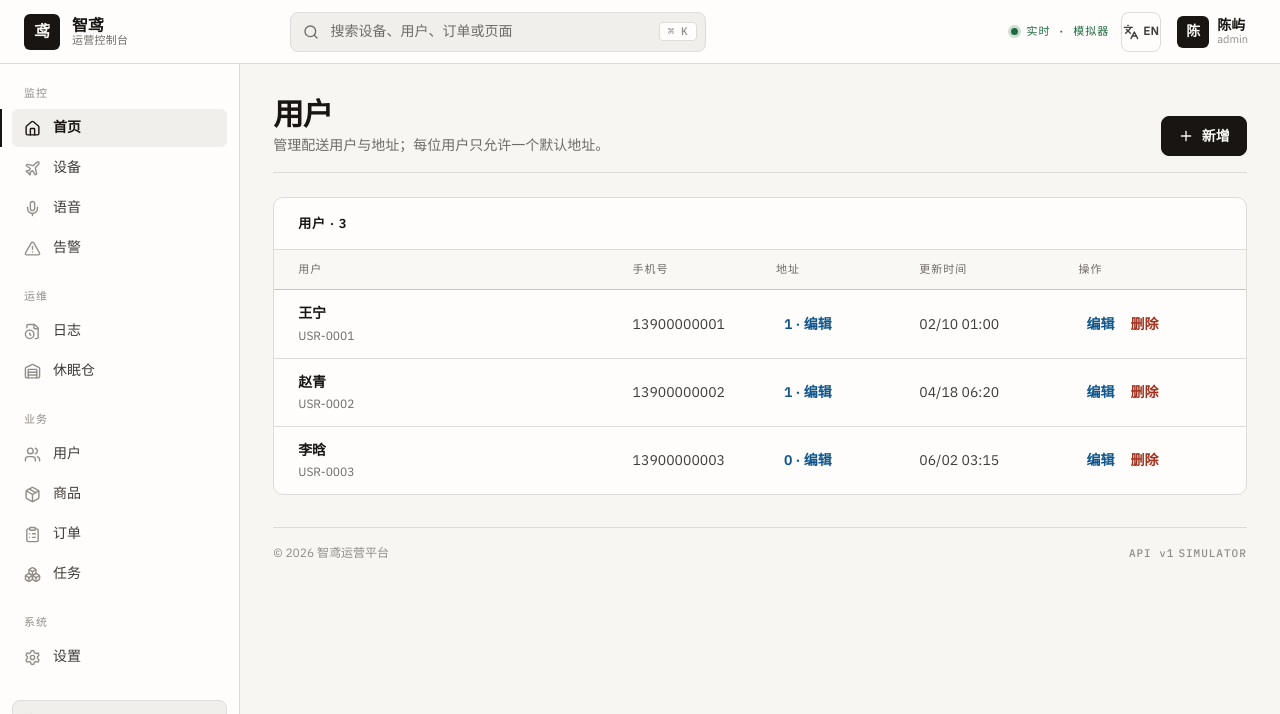
Test: UsersView › flags an invalid receiver phone inline
The width and height of the screenshot is (1280, 714).
Click the button "1 · 编辑" next to "13900000001": (808, 324) [776, 306, 840, 342]
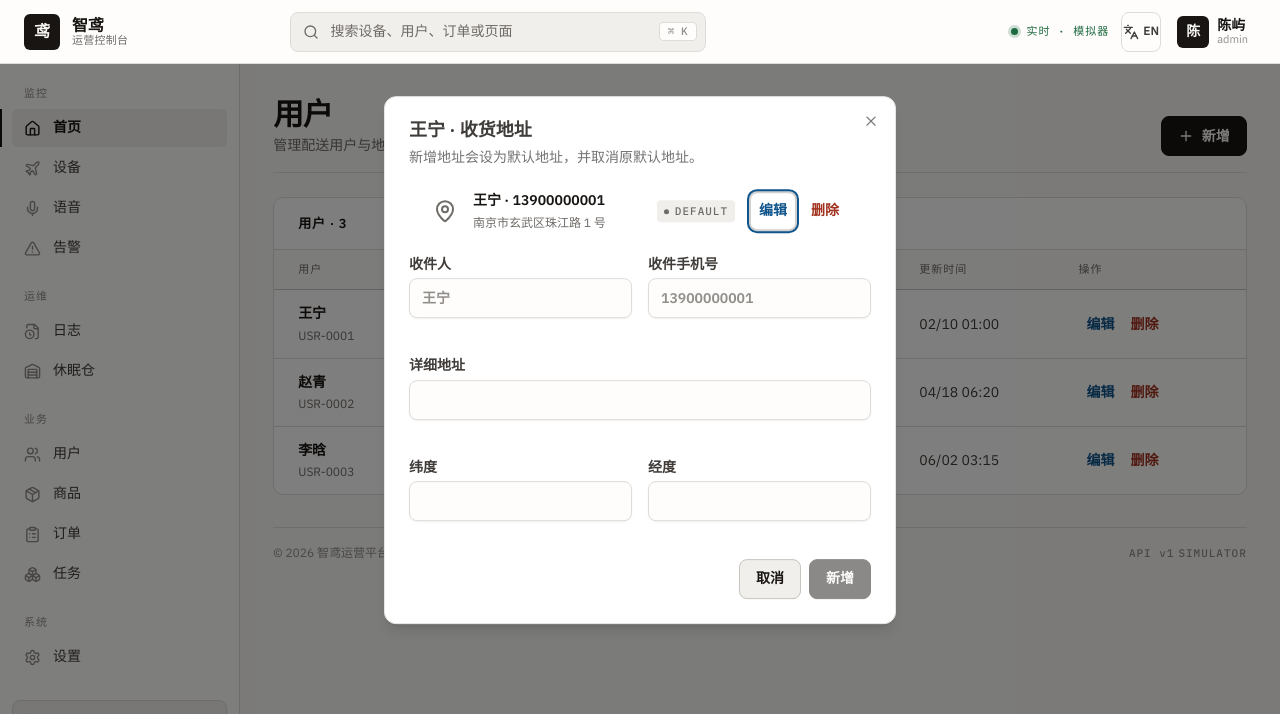
In the field labelled "收件手机号": (760, 298) [648, 278, 871, 318], type "123"
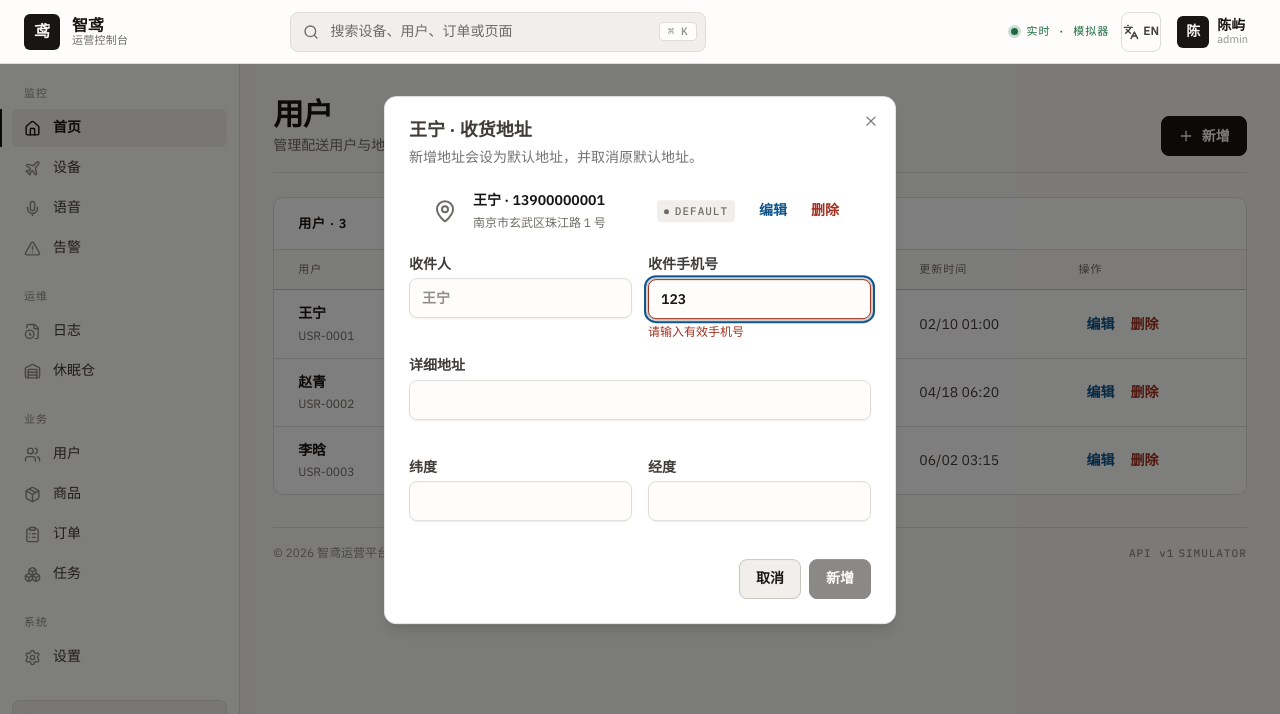
Check: the text "请输入有效手机号" is shown, box [648, 324, 744, 339]
